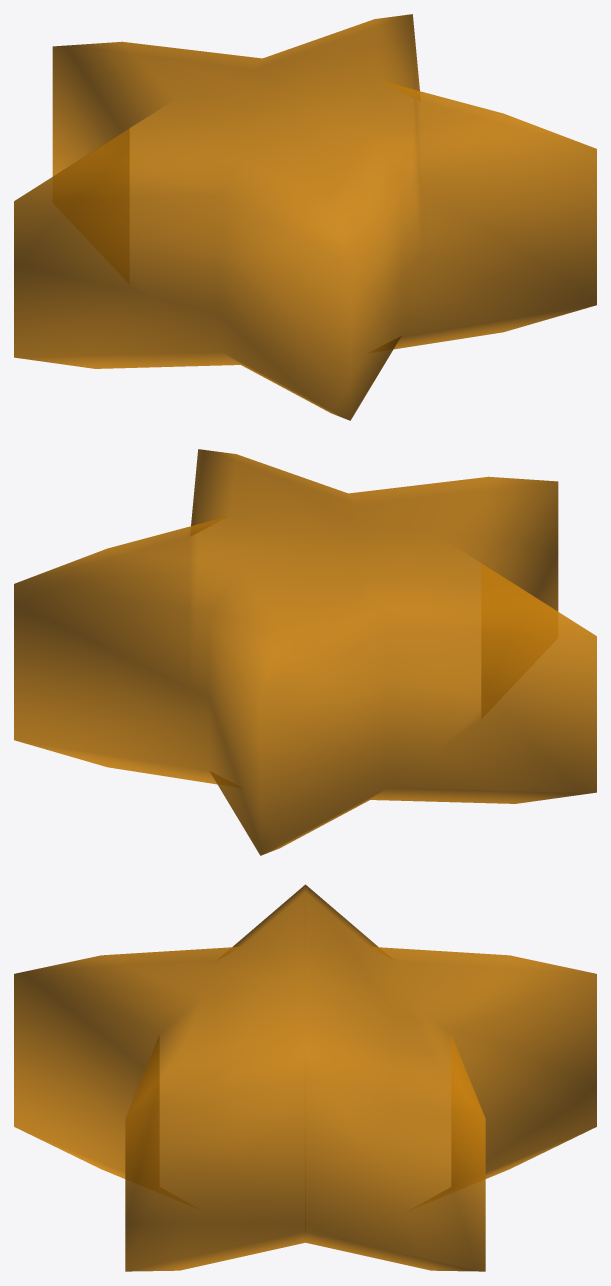
The model's file is star_goal.obj.
3 renders of one model, top to bottom at view 1: azimuth 30°, elevation 25°; view 2: azimuth 150°, elevation 25°; view 3: azimuth 270°, elevation 25°, orthographic. The views are drawn at different scales.
Visible parts, largest first — view 1: star; view 2: star; view 3: star.
Part boxes in pixels (left/top/right/bottom): star: left=14, top=14, right=596, bottom=420; star: left=14, top=449, right=596, bottom=855; star: left=14, top=884, right=596, bottom=1271.
Size of the model in its own units: 4.6 by 1.96 by 4.84.
